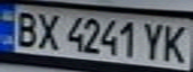1: (118, 18, 142, 58)
2: (78, 15, 103, 55)
4: (63, 14, 87, 53), (100, 17, 121, 56)
B: (9, 8, 42, 48)
K: (157, 21, 193, 64)
X: (33, 9, 63, 52)
Y: (139, 19, 169, 61)
